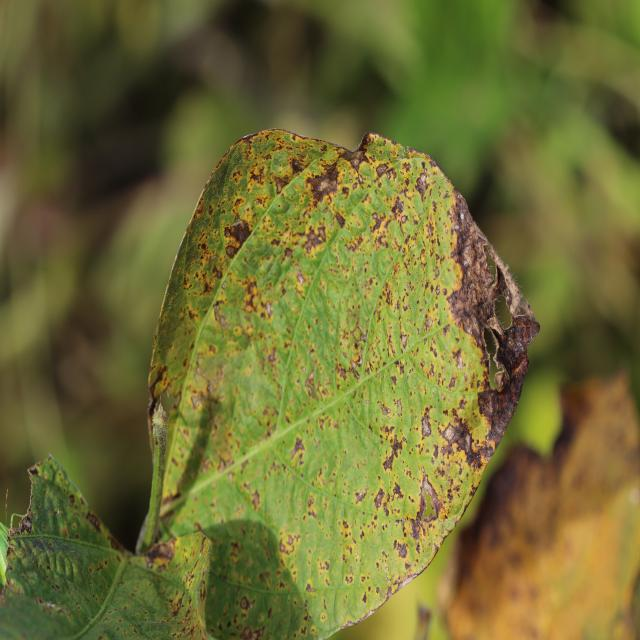Bacterial_Blight: (152, 138, 264, 403), (449, 218, 529, 409), (359, 130, 490, 199), (377, 522, 451, 590), (435, 414, 504, 480), (178, 534, 215, 639), (364, 206, 419, 251), (338, 307, 368, 380), (375, 468, 412, 526), (339, 598, 385, 629), (147, 363, 170, 423), (417, 472, 444, 523), (338, 139, 377, 173), (312, 167, 339, 200), (143, 540, 175, 566), (301, 223, 327, 254), (22, 475, 36, 526), (160, 488, 182, 508), (273, 173, 292, 195), (198, 533, 210, 563), (420, 410, 432, 438), (27, 463, 40, 478), (241, 134, 256, 145)
Soybean: (136, 129, 540, 640)
